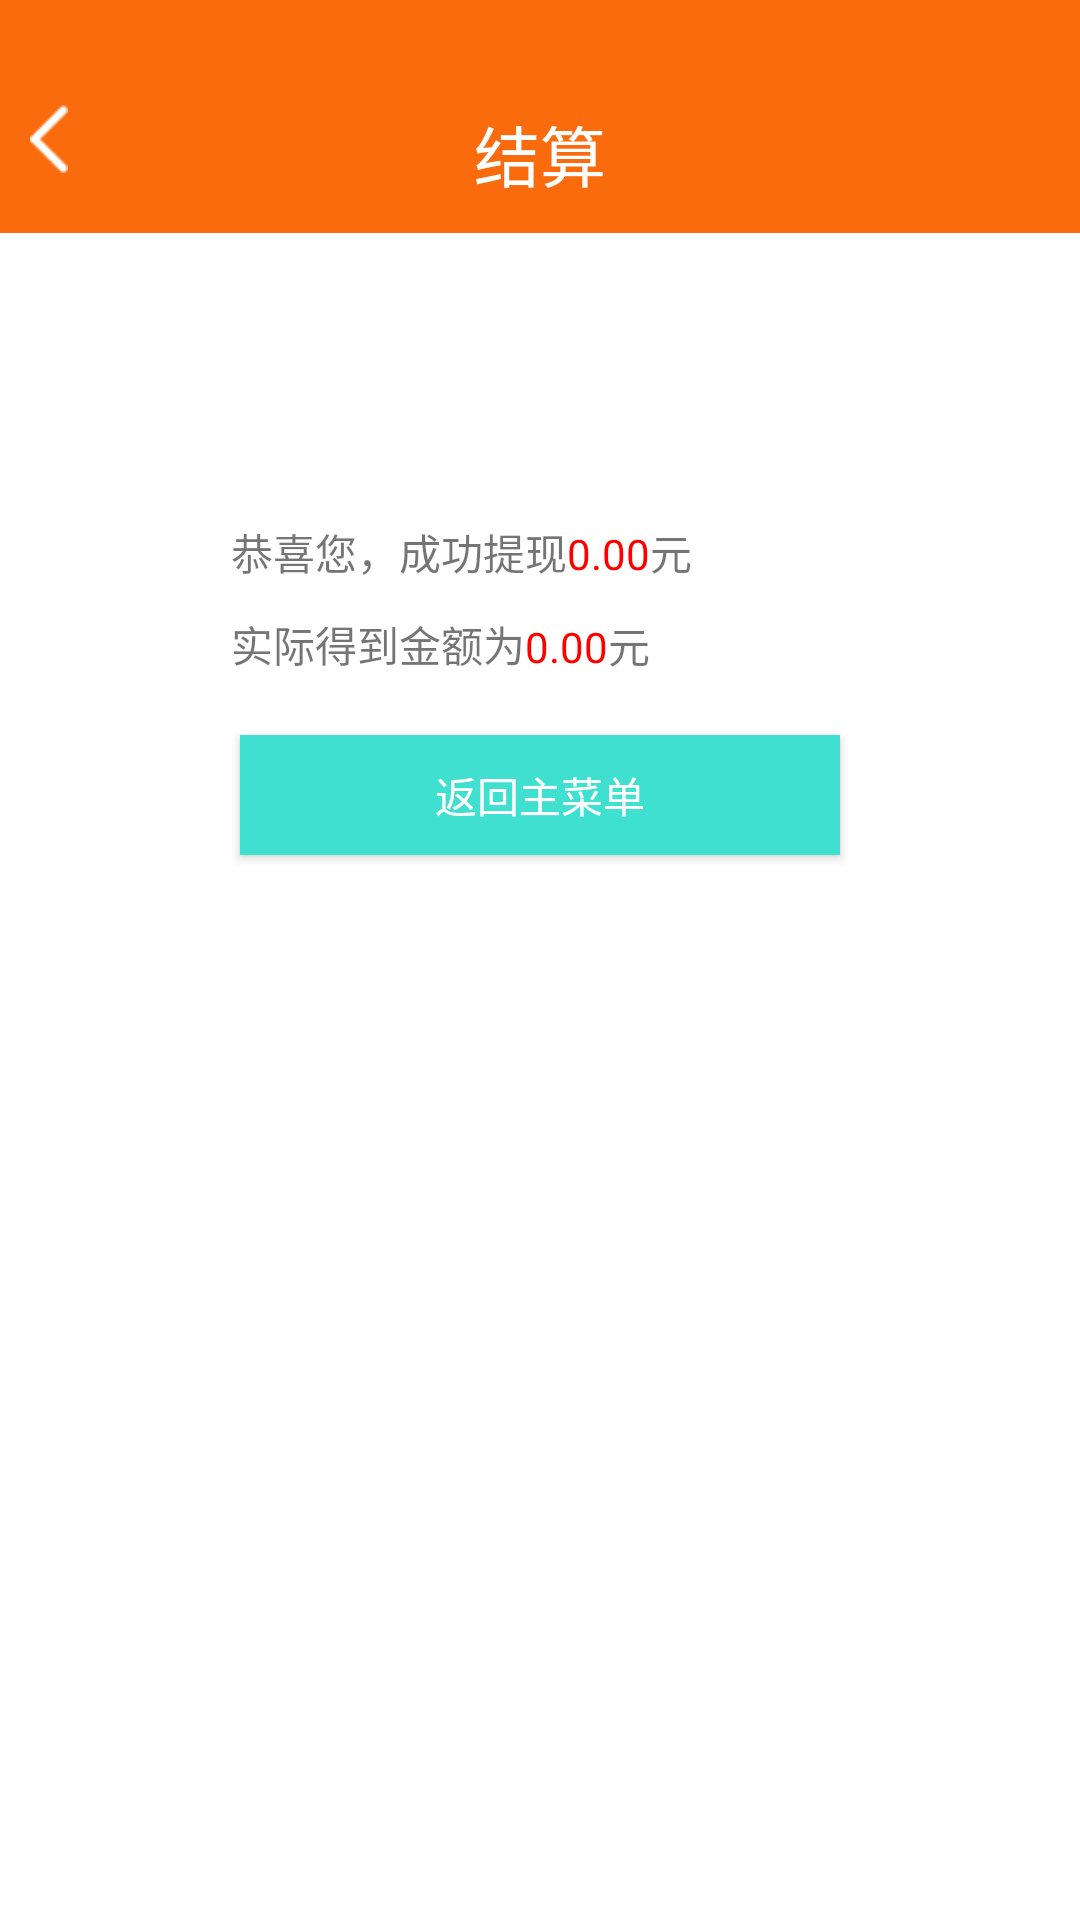

Named icons in this screenshot (1080 × 1920) and their bounding boxes, (x1,y1,x2,y2):
chevron left: (30,105,68,173)
